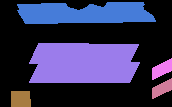parkingspot: (17, 2, 155, 23), (29, 43, 138, 64), (29, 62, 139, 82), (152, 58, 172, 79), (152, 78, 172, 98), (11, 91, 30, 107)
